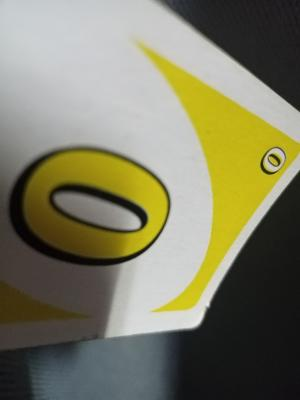num_0: (245, 130, 293, 188)
